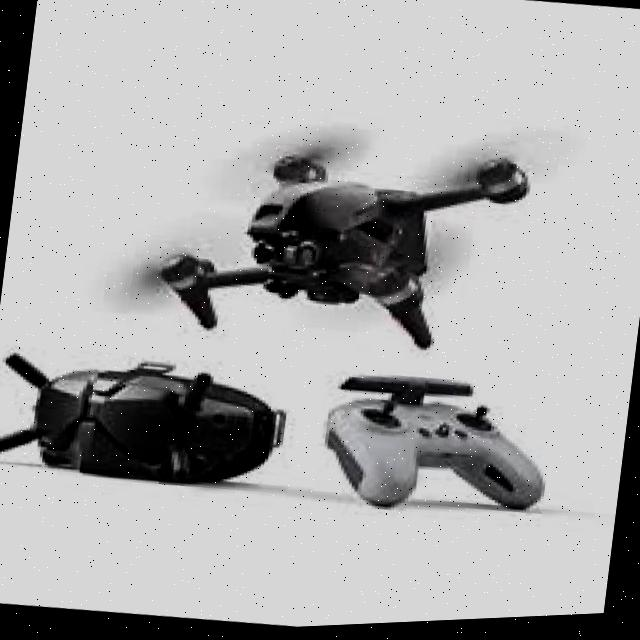drone: (97, 86, 564, 386)
